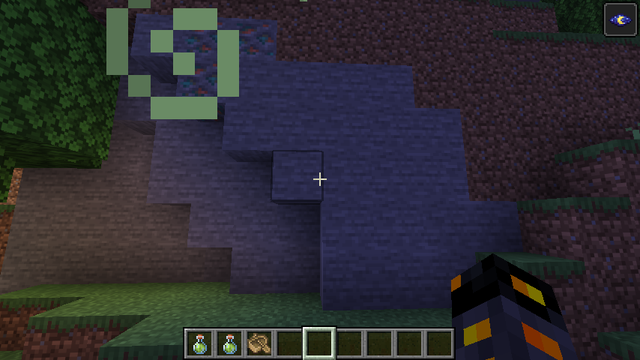cooper: (182, 16, 274, 102)
